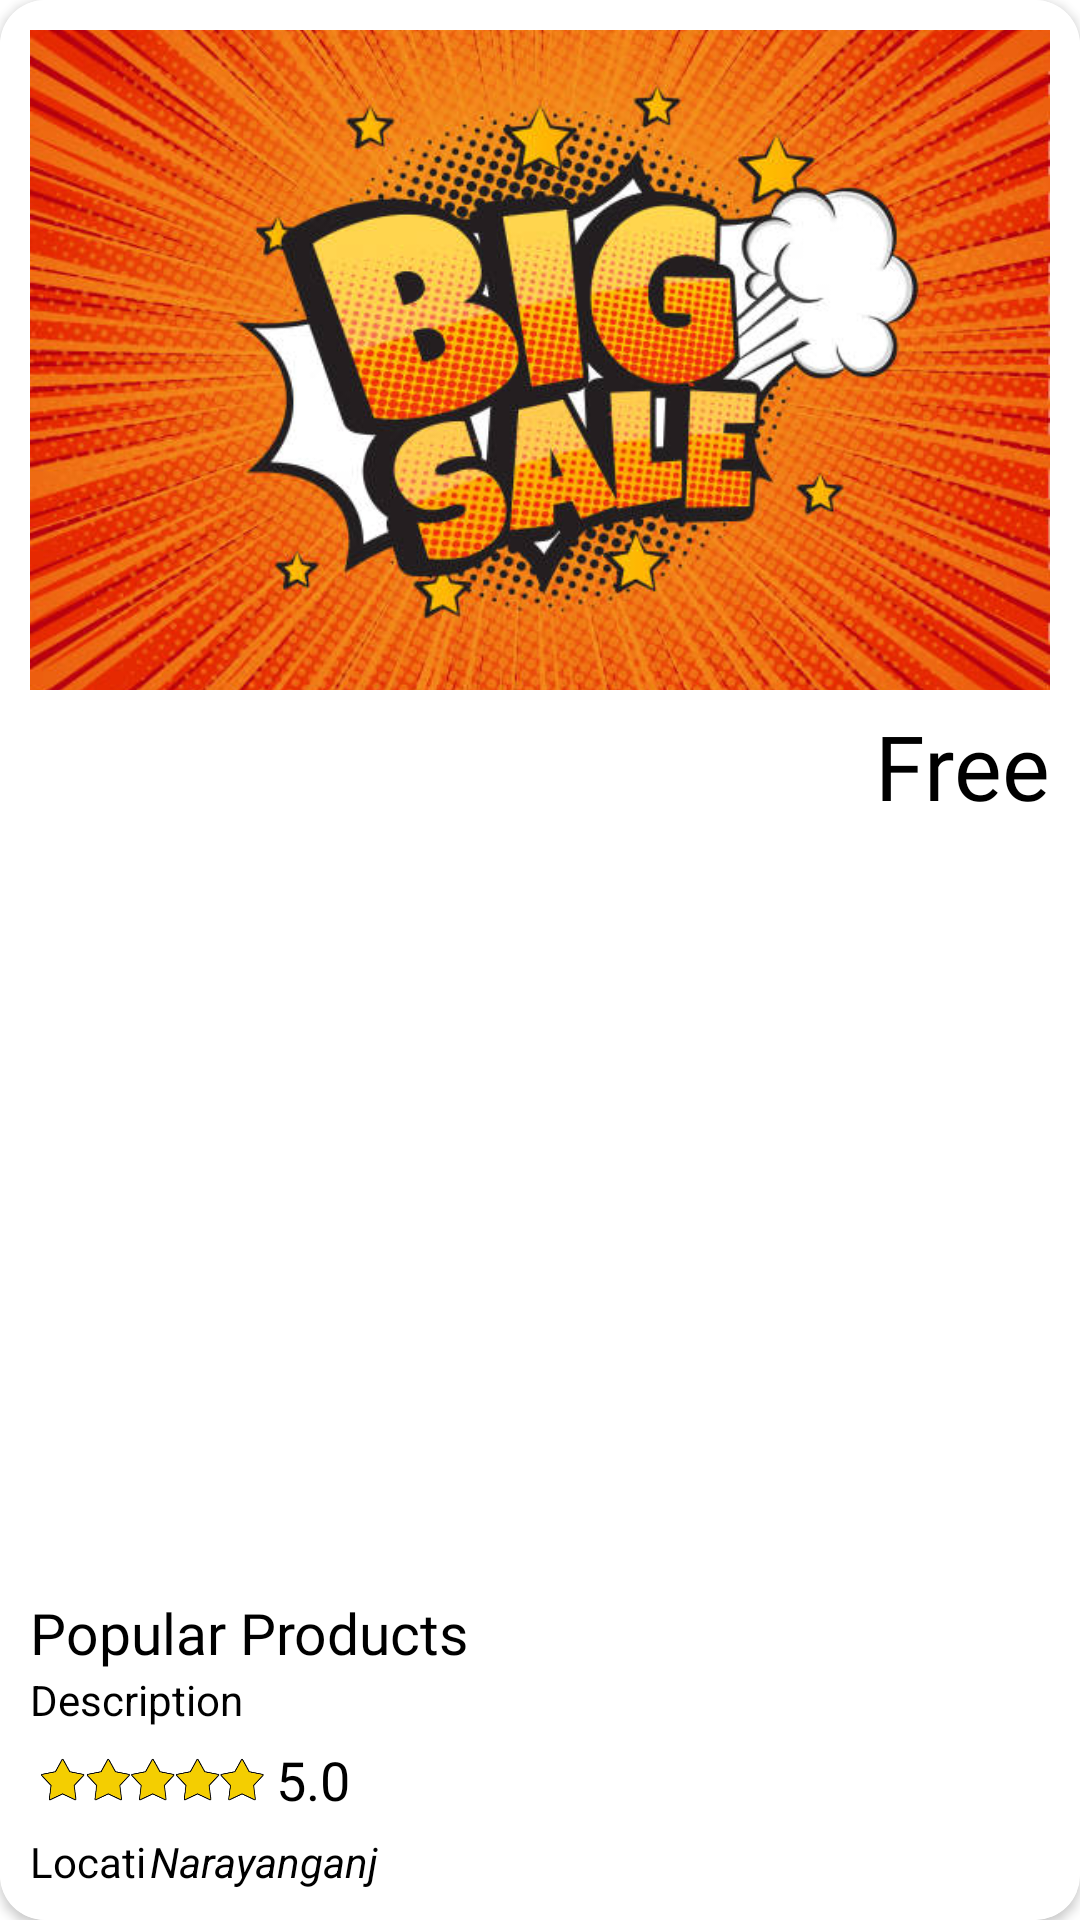

Icon click points for this 1080×1920 phone screenshot, format (x=x, y=y):
rating: (x=152, y=1780)
